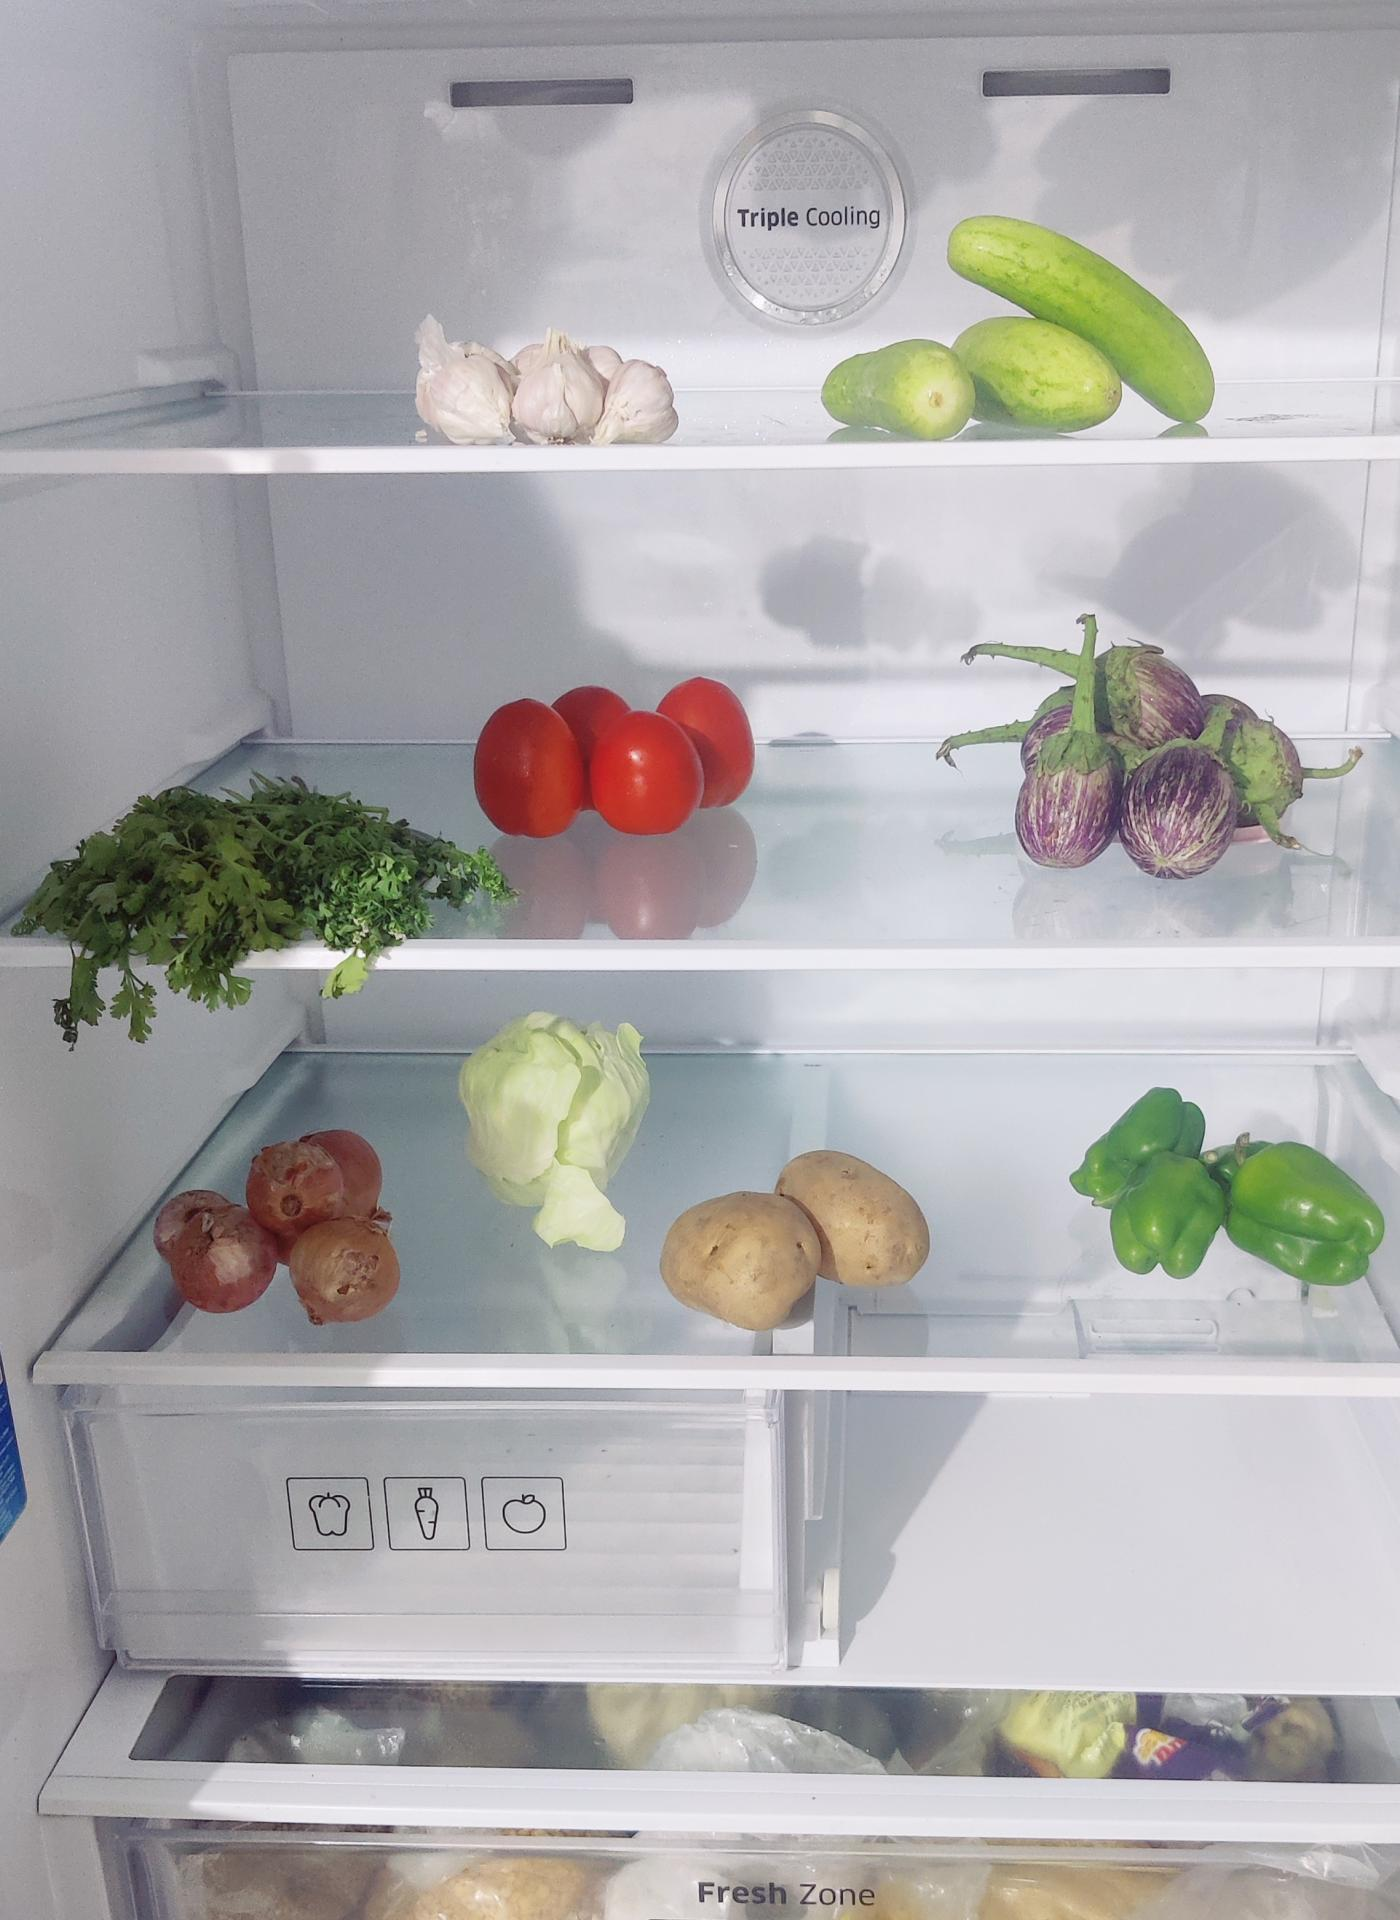brinjal: (980, 641, 1299, 872)
cabbage: (459, 1012, 646, 1200)
capsicum: (1078, 1091, 1394, 1292)
coriander: (28, 784, 501, 972)
cucumber: (950, 227, 1223, 438)
garlic: (409, 322, 672, 447)
onion: (161, 1127, 391, 1309)
potato: (658, 1151, 932, 1328)
tomato: (479, 672, 762, 832)
